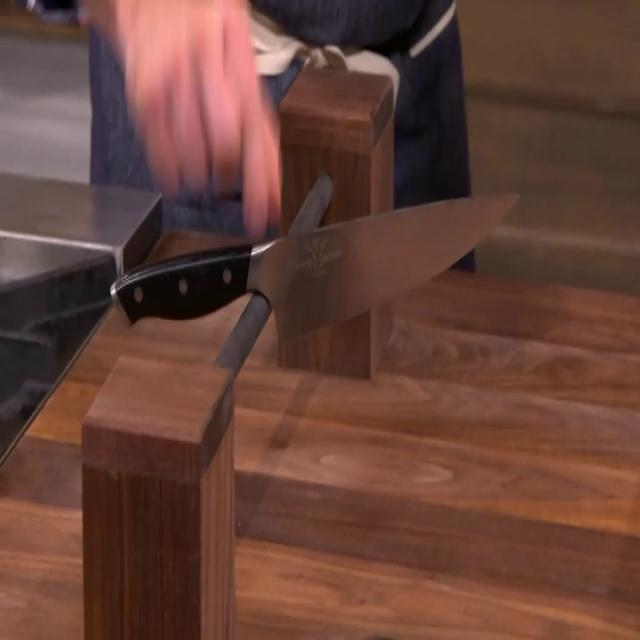Knife: (111, 193, 521, 330)
